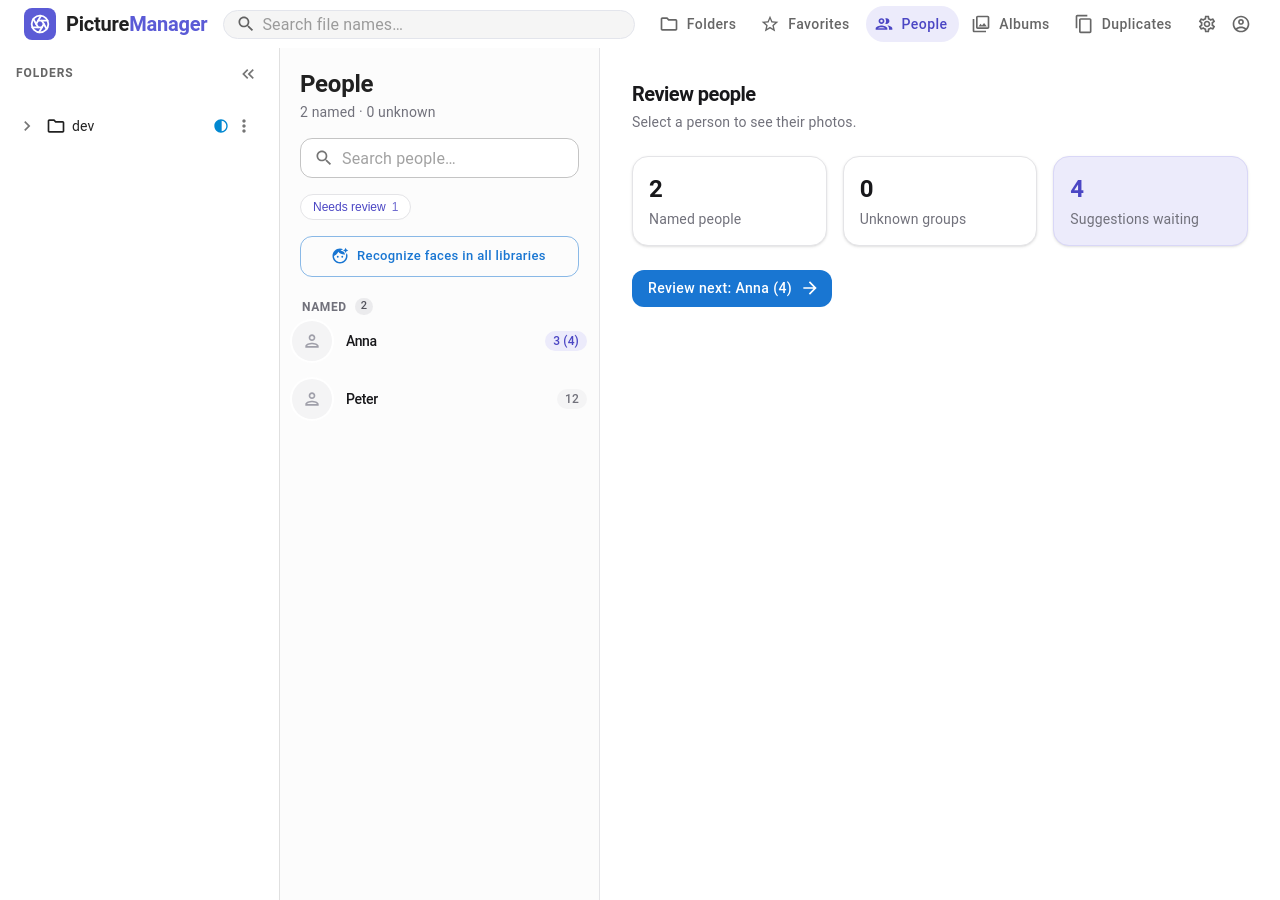
PeoplePage › filters to people needing review, and lists those with suggestions first
Expected: the link "Peter 12" is shown, x1=292 y1=379 x2=587 y2=419
Click the button "Needs review 1" at (356, 207), box x1=300 y1=194 x2=411 y2=220
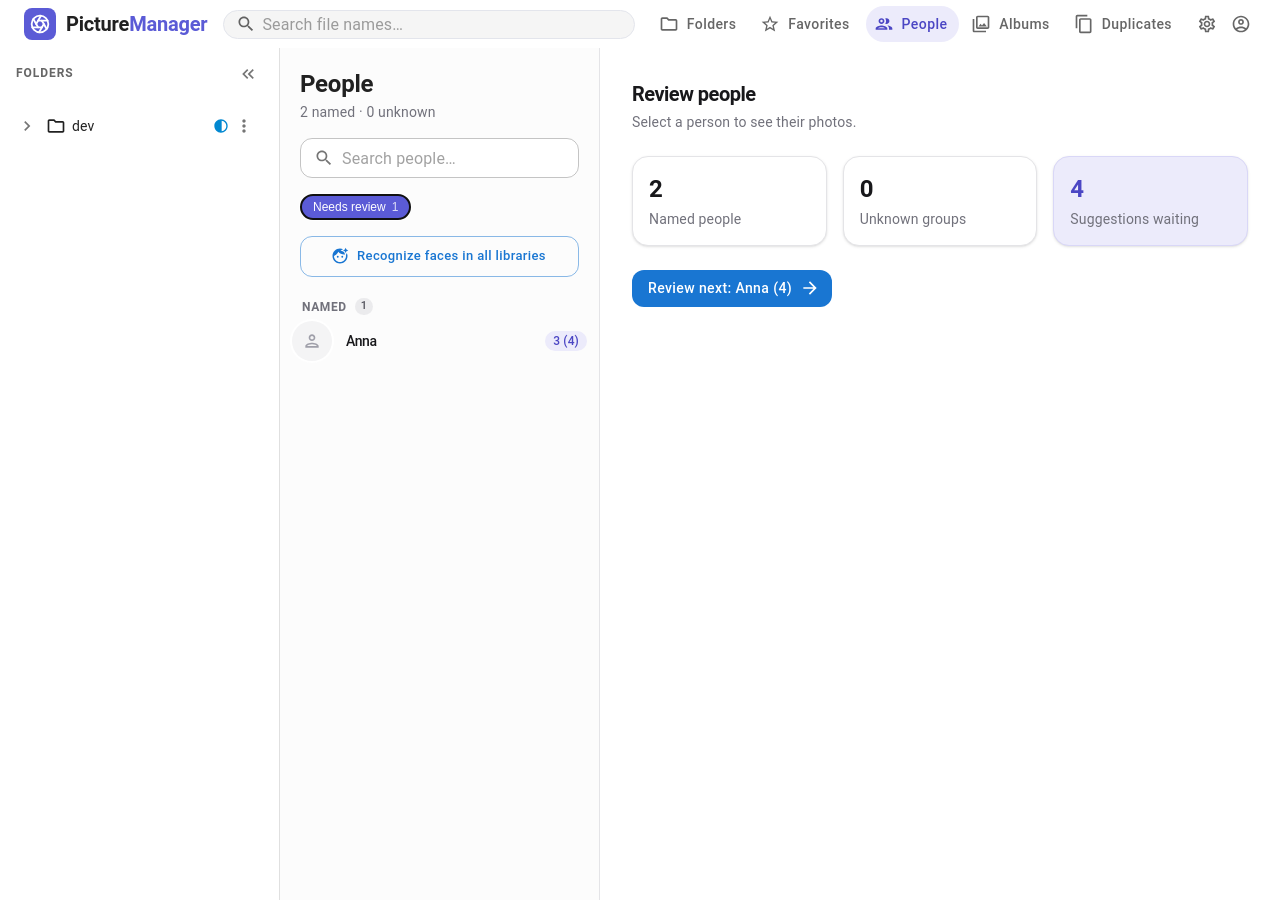
Expected: the link "Anna 3 (4)" is shown, x1=292 y1=321 x2=587 y2=361
Expected: the link "Peter" is gone
